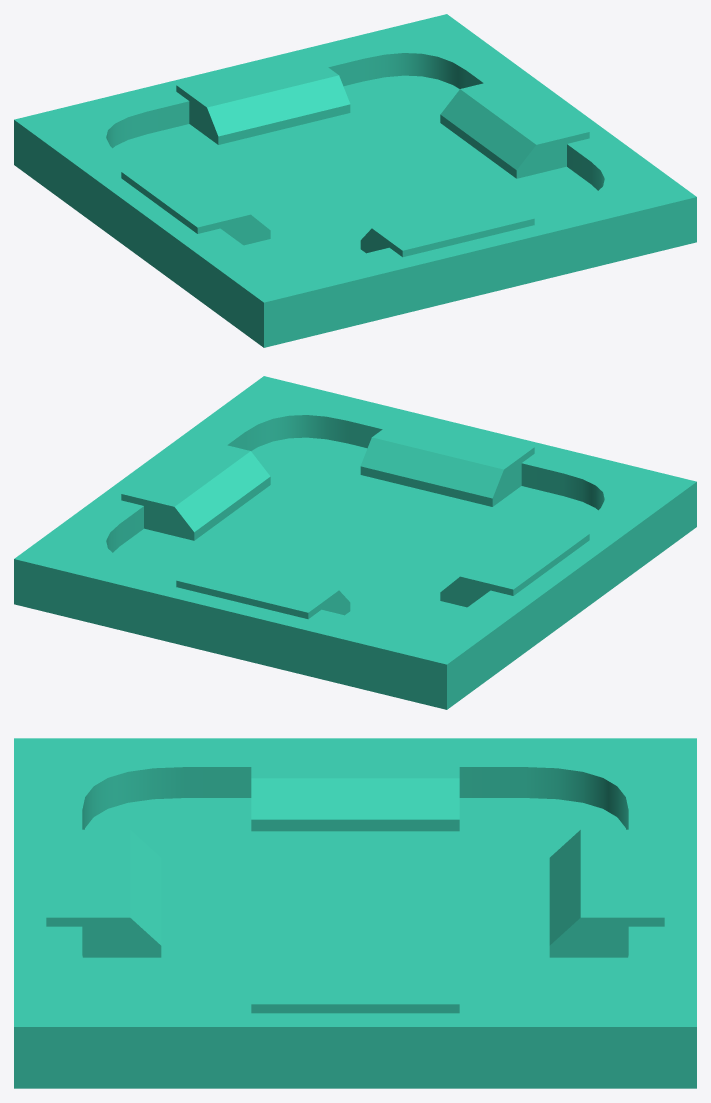
The model's file is Floor_A_1x1m.FBX.
The picture shows the model from 3 angles, top to bottom: view 1: azimuth 30°, elevation 25°; view 2: azimuth 150°, elevation 25°; view 3: azimuth 270°, elevation 25°; orthographic projection. The views are drawn at different scales.
Visible parts, largest first — view 1: Floor_A_1x1m; view 2: Floor_A_1x1m; view 3: Floor_A_1x1m.
Boxes of the visible parts, x1=… form: Floor_A_1x1m: x1=14, y1=14, x2=696, y2=347; Floor_A_1x1m: x1=14, y1=376, x2=696, y2=709; Floor_A_1x1m: x1=14, y1=738, x2=696, y2=1088.
Bounding box in the file's own units: 100 × 11.44 × 100.
